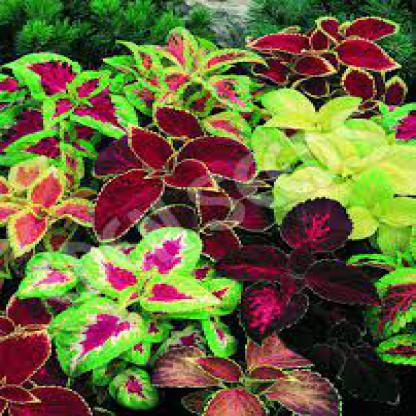Bunga Coleus: (12, 35, 393, 399)
